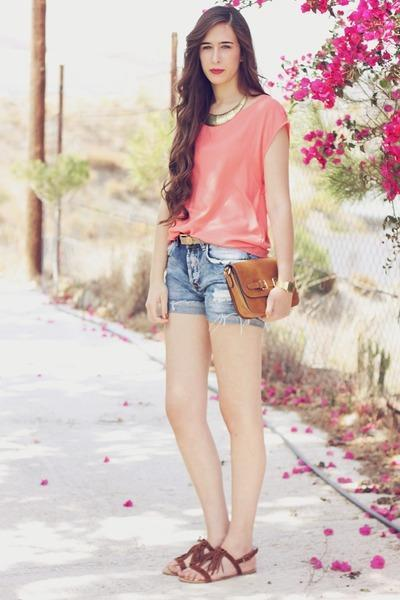bag: (222, 261, 298, 327)
shirt: (163, 94, 289, 266)
shoe: (175, 539, 245, 583)
shorts: (163, 235, 257, 577)
